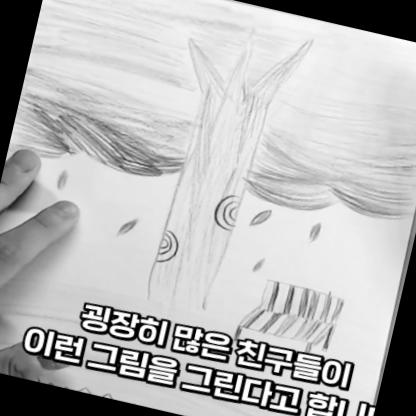knot: (208, 190, 242, 236), (152, 227, 184, 268)
trunk_straight: (150, 126, 260, 290)
